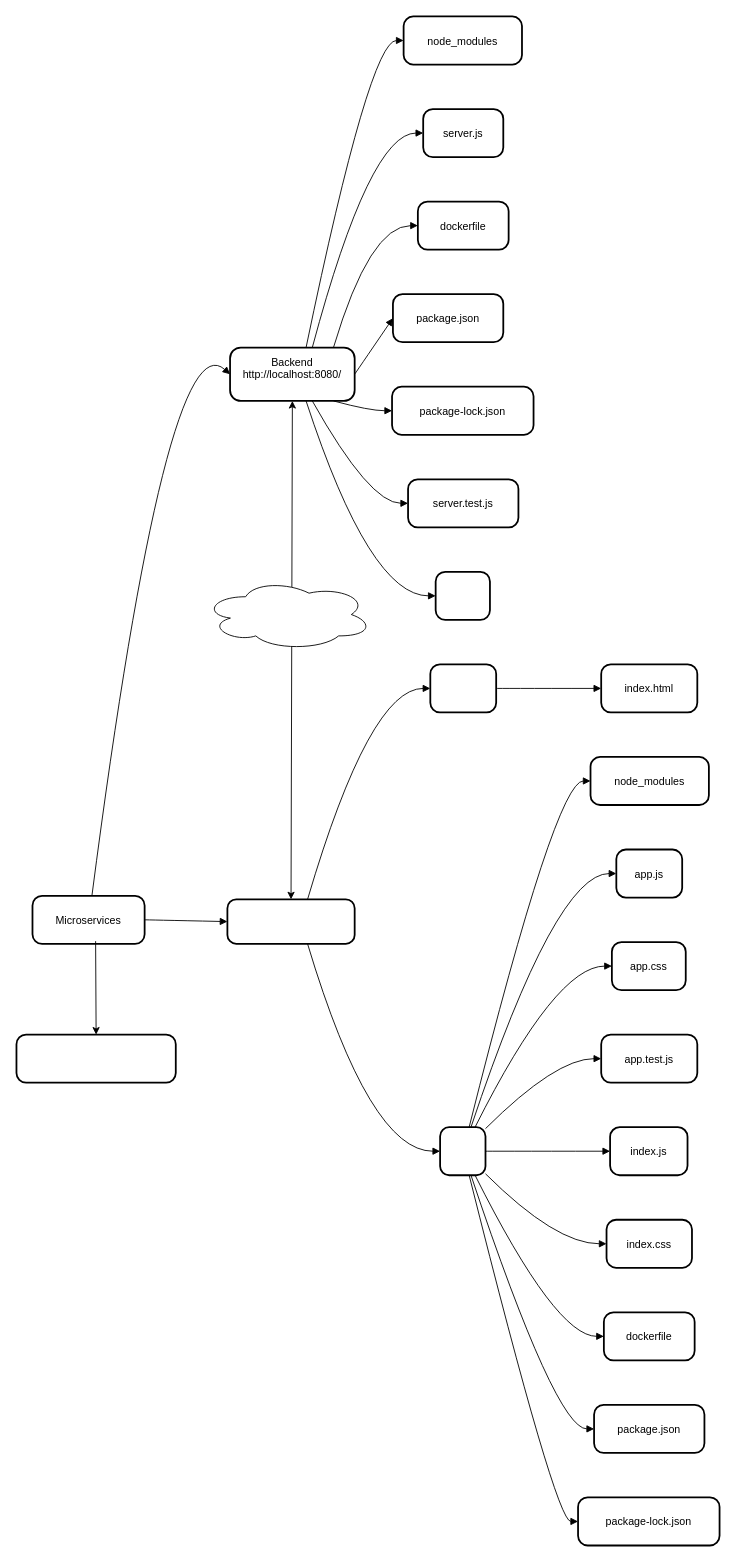
The diagram is 735 pixels wide and 1561 high, and some of its shapes have lost their labels. Here are the shapes that lost their labels. From the top down, the centre of each, then its label:
point 287,614: GET /api/articles POST /api/articles
point 462,595: .env
point 463,688: public
point 290,921: Frontend http://localhost:3001/
point 95,1058: docker-compose.yml
point 462,1151: src
